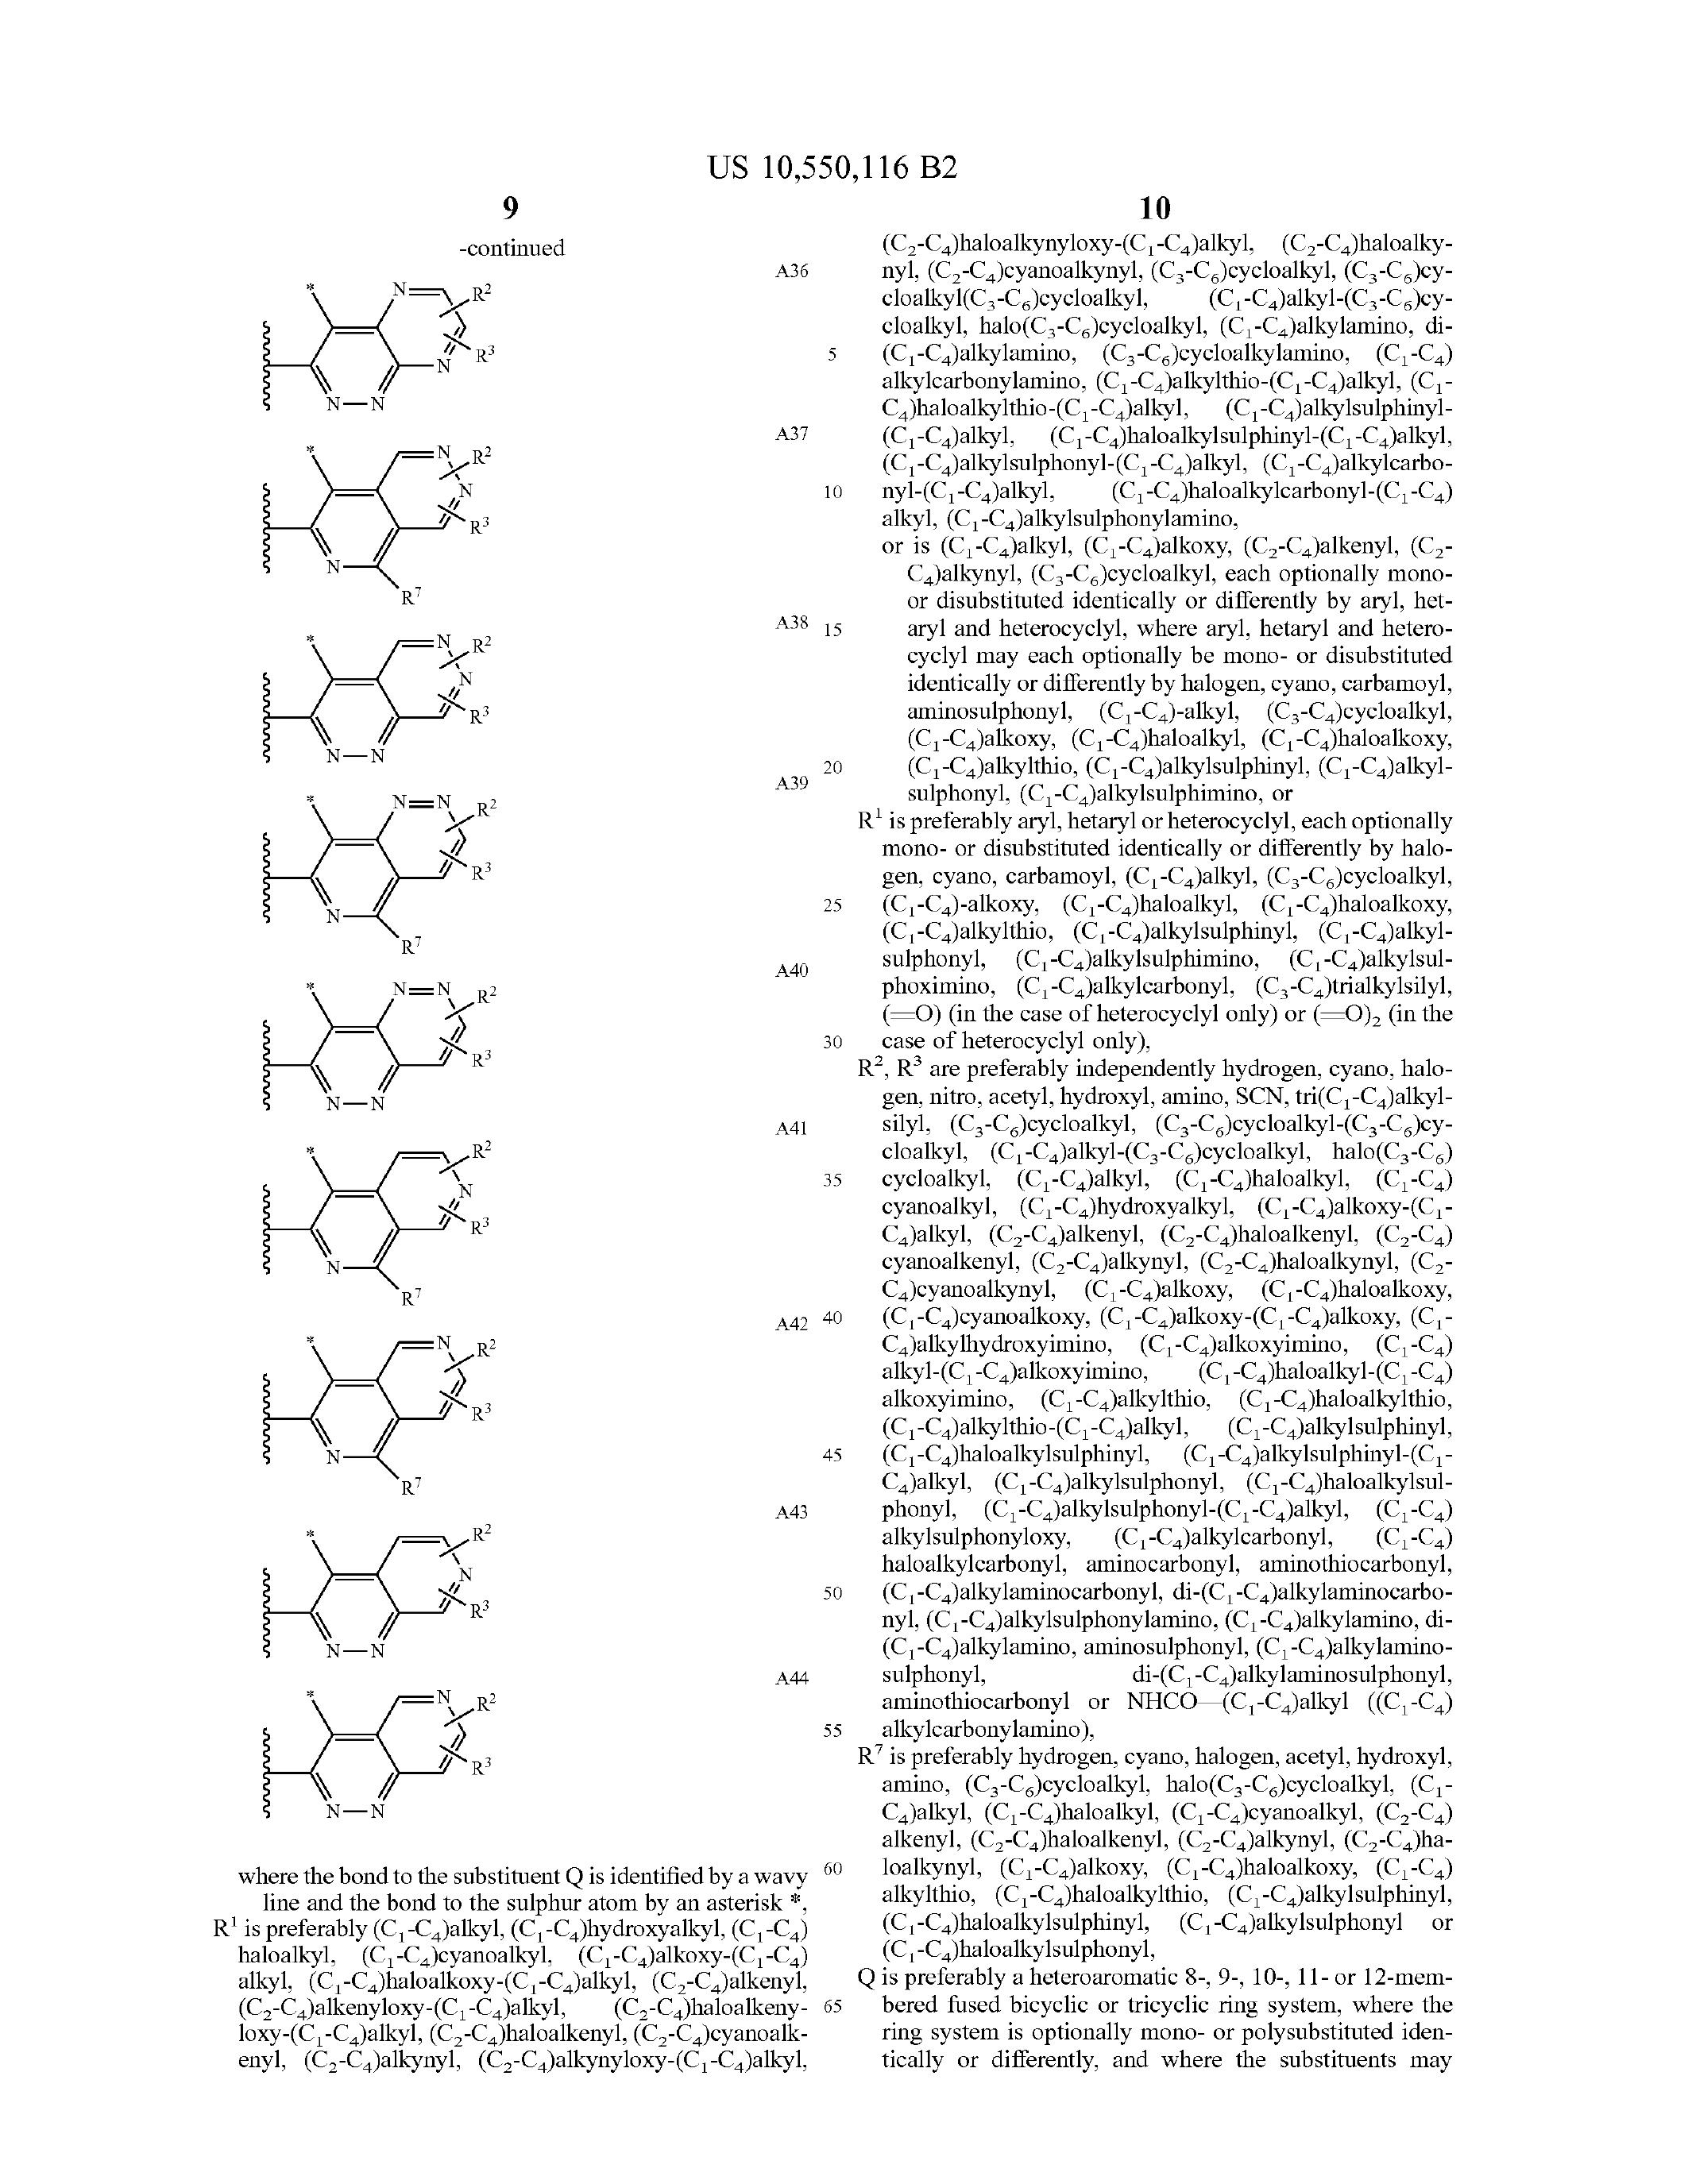intermediates: (181, 1496, 585, 1835)
